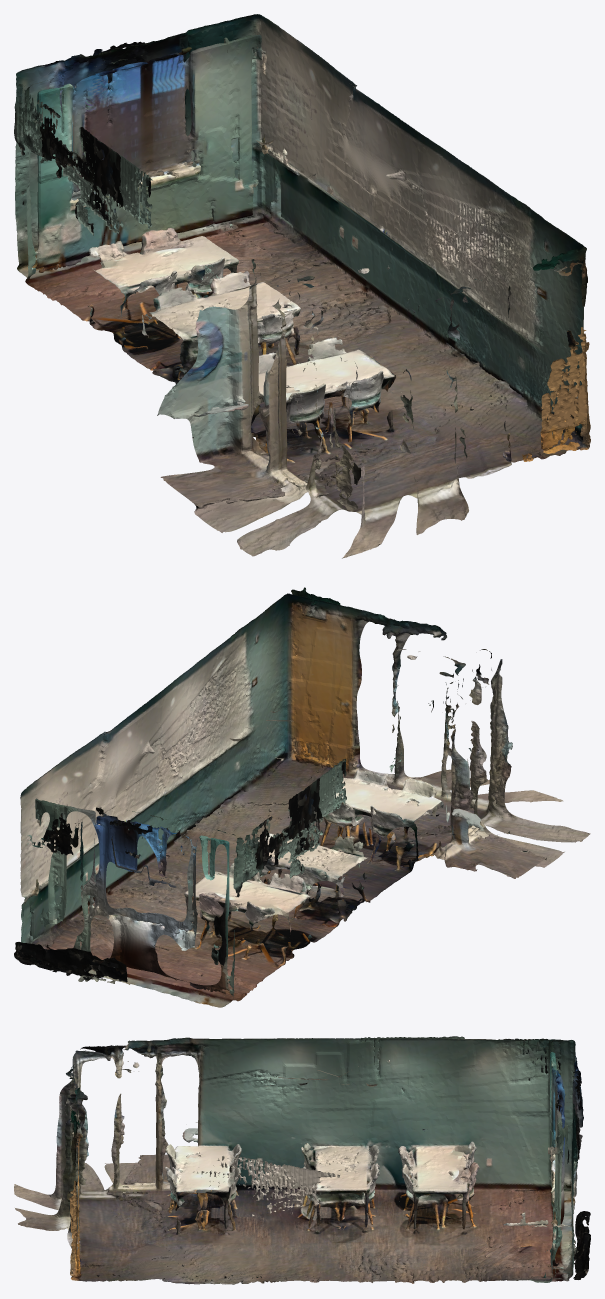
File: POLYCAM_ROOM_2.glb
The picture shows the model from 3 angles, top to bottom: view 1: azimuth 30°, elevation 25°; view 2: azimuth 150°, elevation 25°; view 3: azimuth 270°, elevation 25°; orthographic projection. The views are drawn at different scales.
Size of the model in its own units: 4.64 by 2.75 by 8.38.
2 materials, 2 textured.
